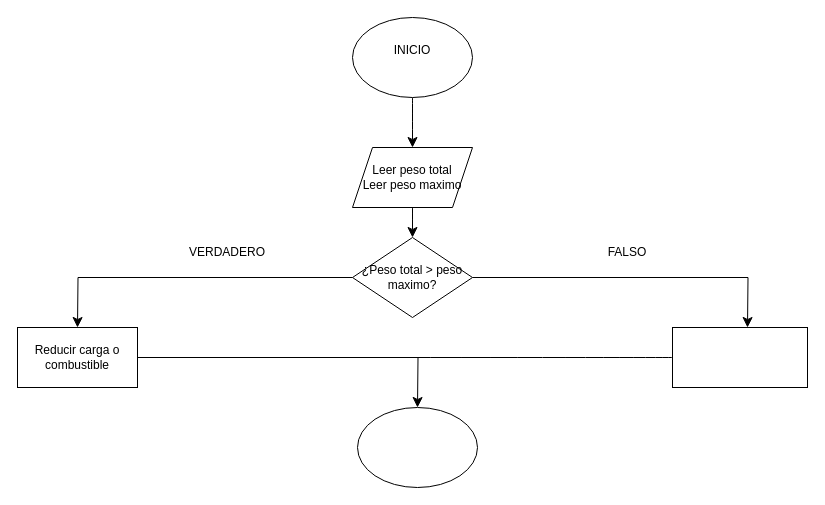
Image size: 825x505. Some labels were removed from this diagram. The centre of each missing label's shape, as x and y in pixels:
"Aeronave lista para despegar" goes at (740,357).
"FIN" goes at (417,447).
